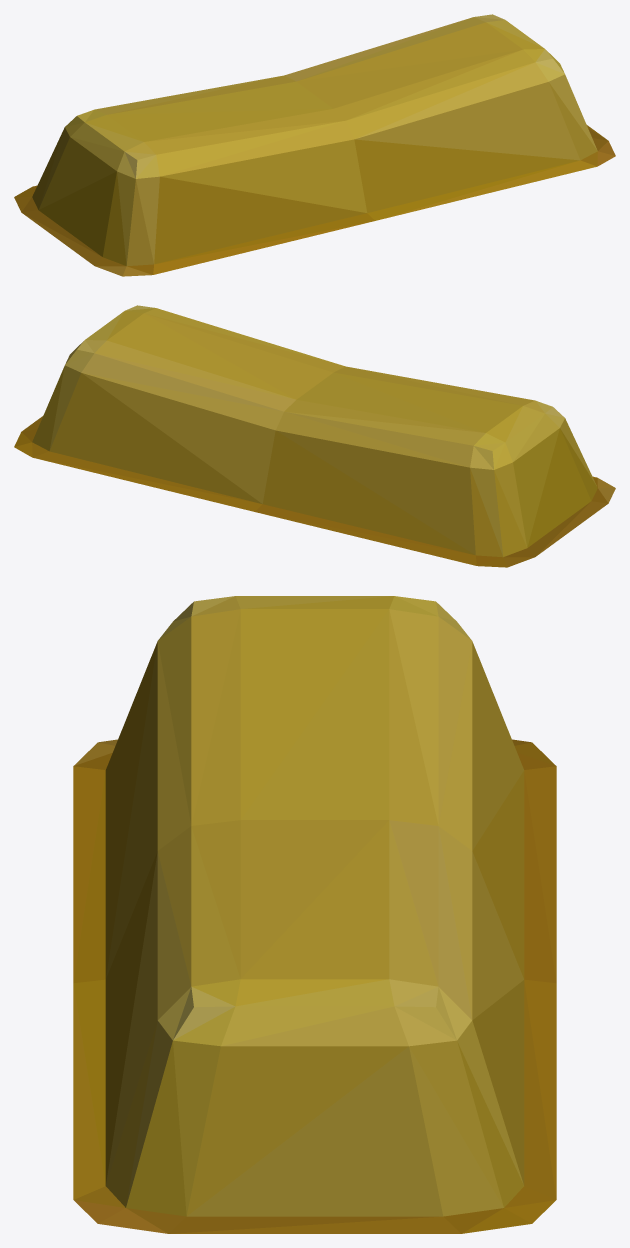
The model's file is prop_treasure_ingot_gold.fbx.
3 views of the same model, one above another, from view 1: azimuth 30°, elevation 25°; view 2: azimuth 150°, elevation 25°; view 3: azimuth 270°, elevation 25° (orthographic). The views are drawn at different scales.
Parts seen in each view (by area): view 1: prop_treasure_ingot_gold; view 2: prop_treasure_ingot_gold; view 3: prop_treasure_ingot_gold.
Part boxes in pixels (x1,y1,x2,y2): prop_treasure_ingot_gold: [14, 14, 615, 276]; prop_treasure_ingot_gold: [14, 305, 615, 567]; prop_treasure_ingot_gold: [73, 596, 556, 1233].
Bounding box in the file's own units: 0.733 × 0.1289 × 0.2983.
